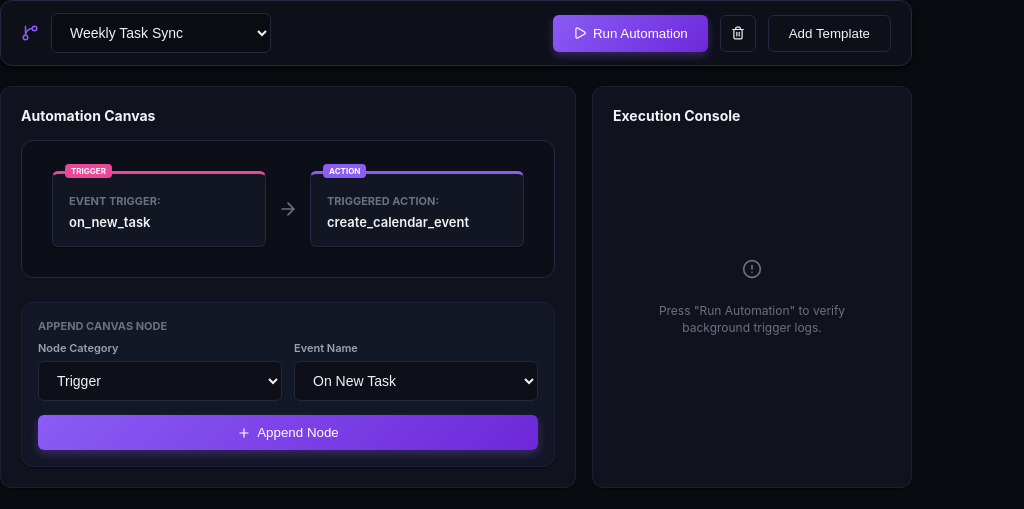
Test case: WorkflowsView › renders workflow nodes and runs workflow
The width and height of the screenshot is (1024, 509).
Expected: the text "on_new_task" is shown, [69,214,150,230]
Expected: the text "create_calendar_event" is shown, [327,214,469,230]
Click the button "Run Automation" at point(630, 33), box [553,14,708,52]
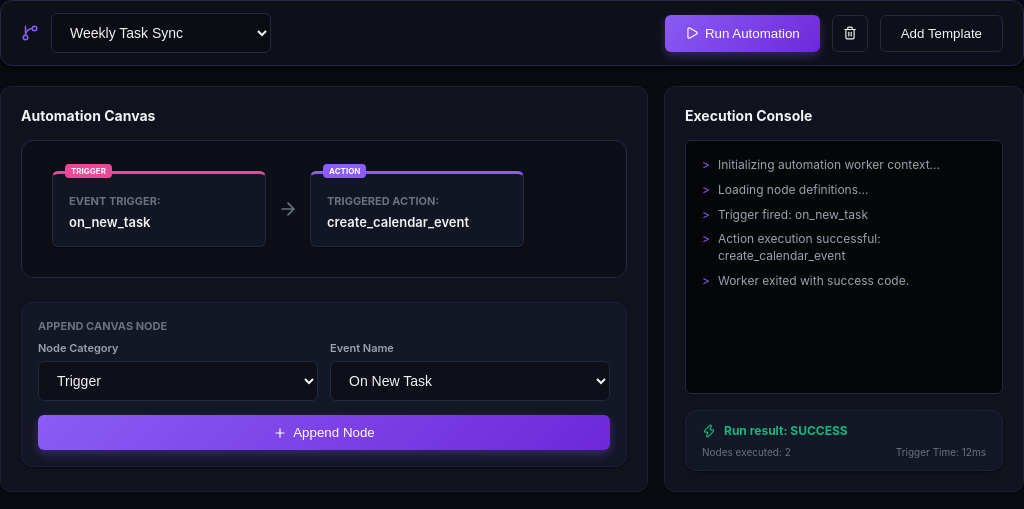
Result: the text "Worker exited with success code." is shown at [718,273,909,290]
